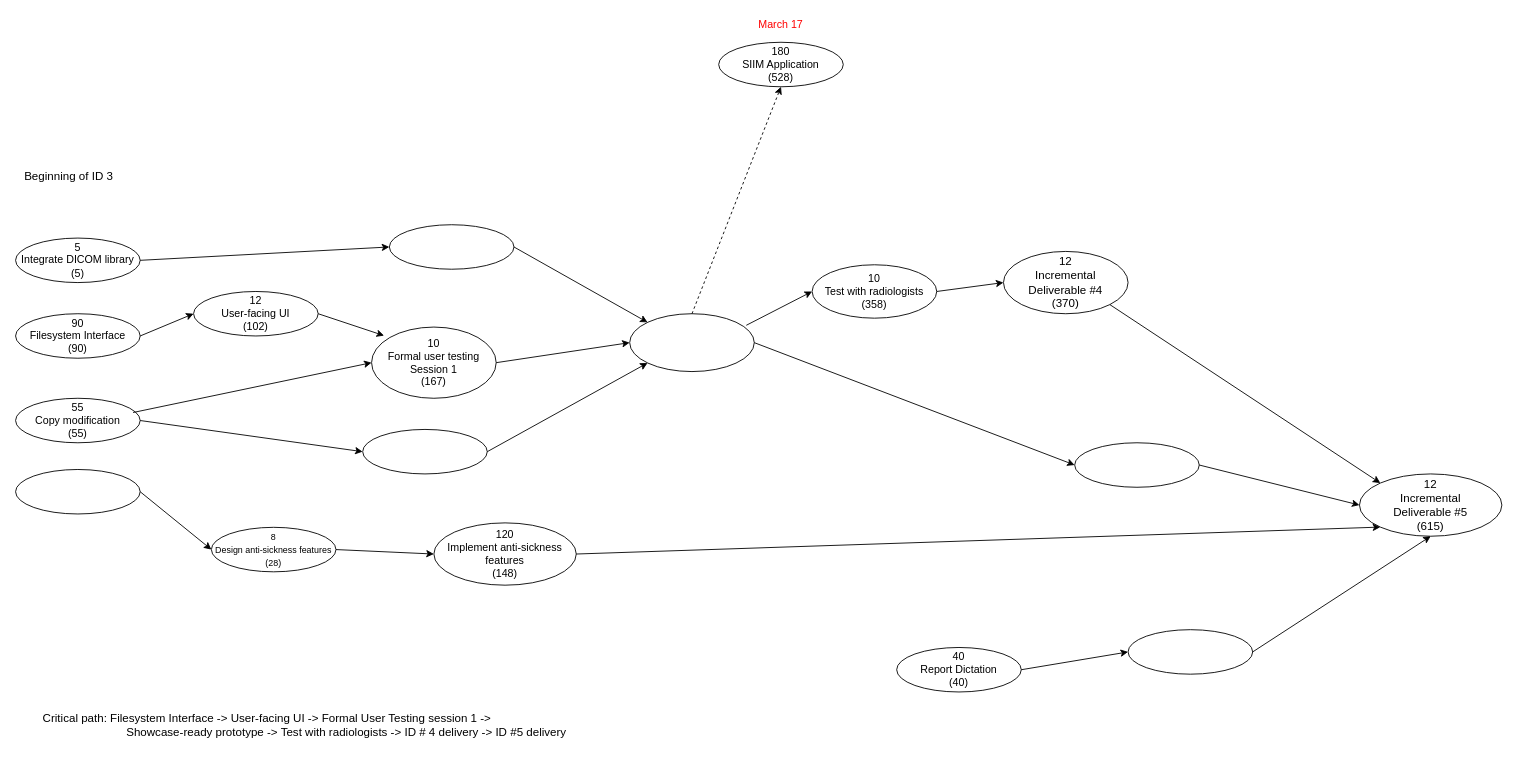
Image size: 1517x769. Some labels were removed from this diagram. The centre of each missing label's shape, as x and y in pixels:
"14 Showcase-ready prototype (348)" goes at point 691,342.
"15 Stress test (363)" goes at point 1136,464.
"20 Motion sickness report (20)" goes at point 77,491.
"30 Save/load reports (70)" goes at point 1190,651.
"32 DICOM information parsed (37)" goes at point 451,246.
"75 Grid for Copies (130)" goes at point 424,451.
